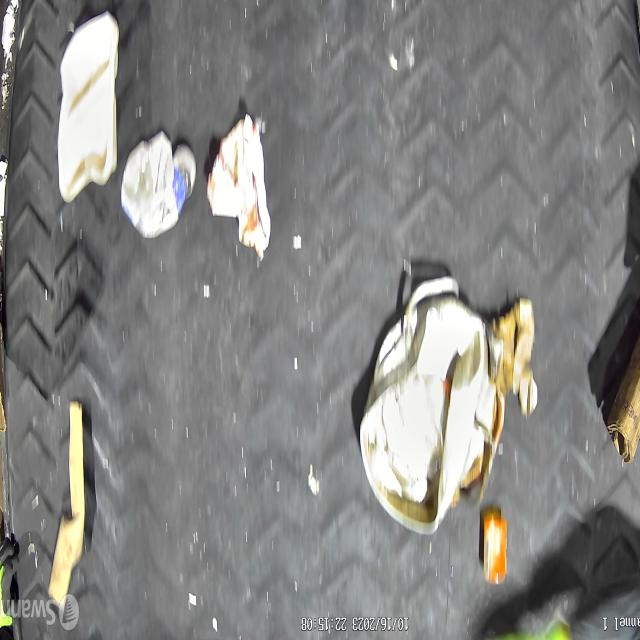milk_jug: (58, 13, 118, 203)
